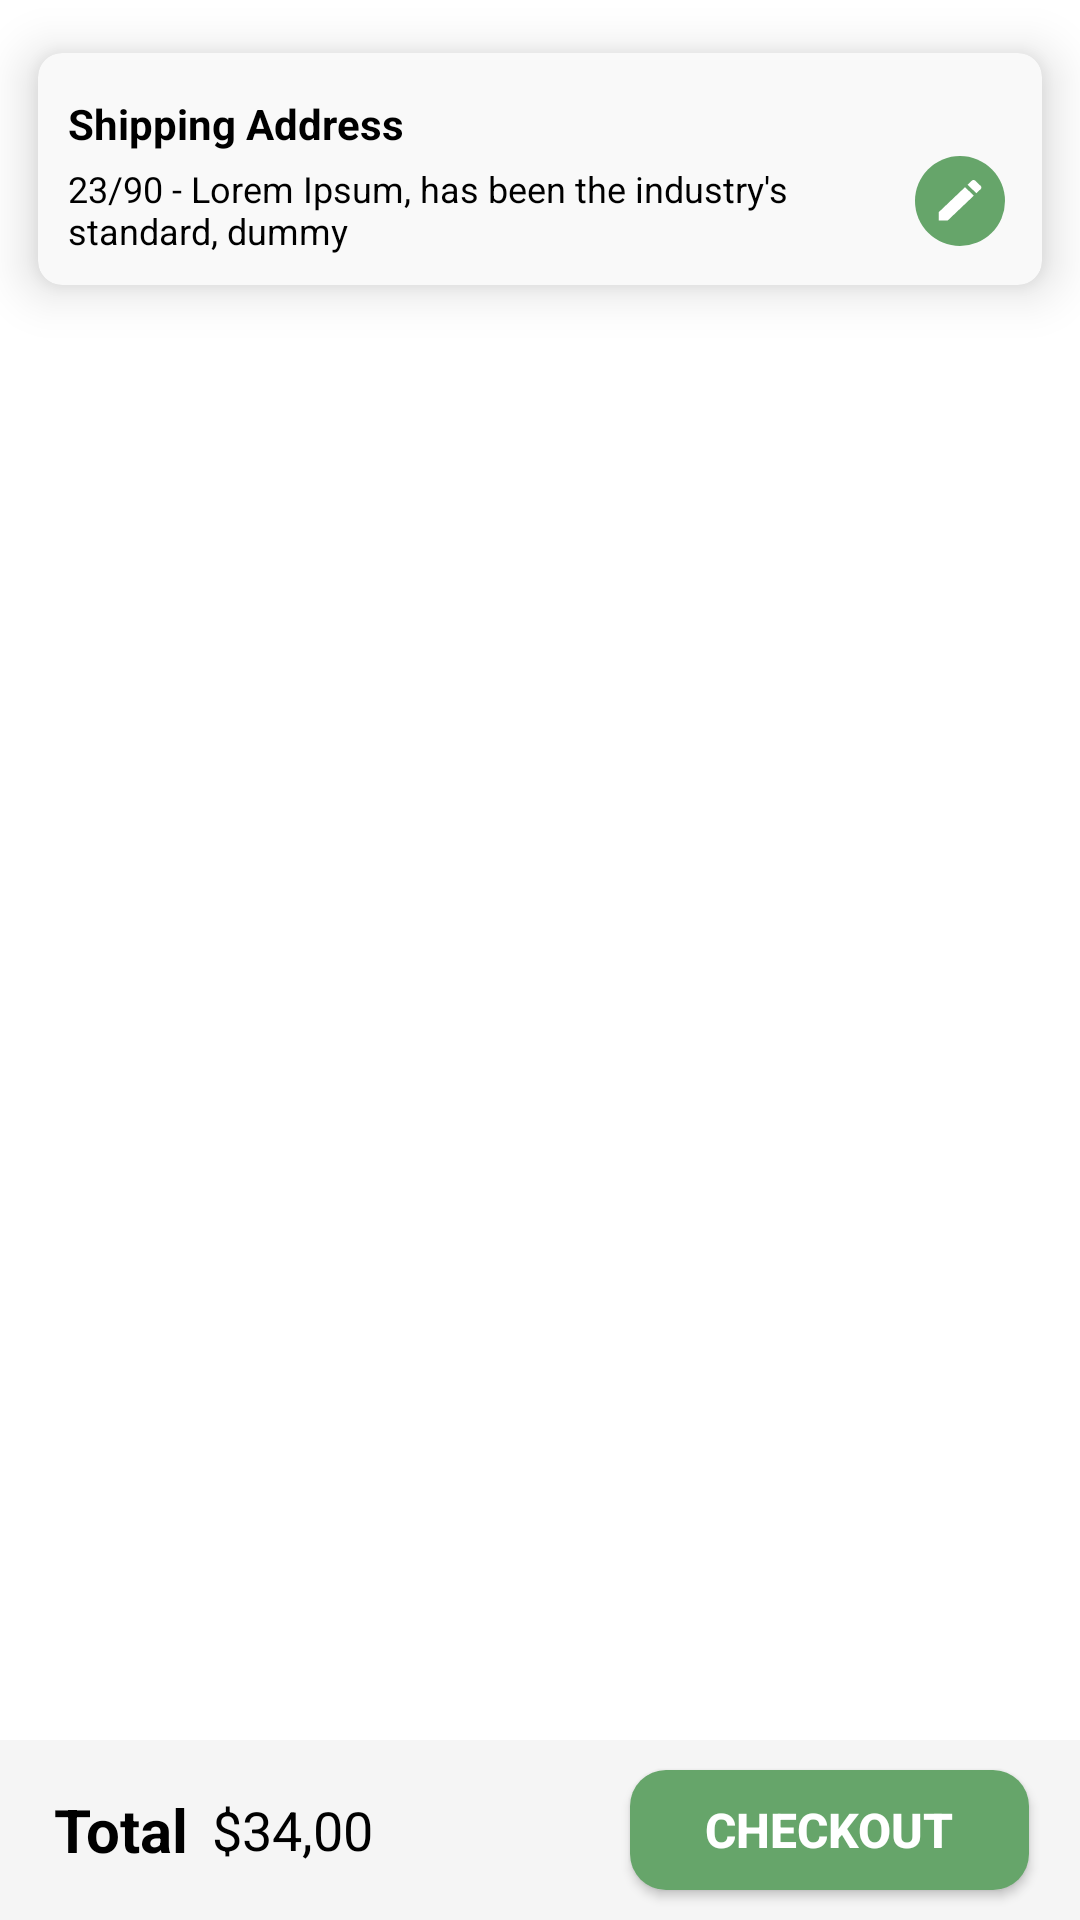

Locate icon controls on the screen. Image size 1080*1920, boxes as (x1, y1, x2, y2).
edit: (938, 180, 982, 221)
